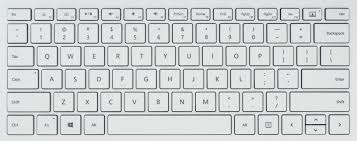keyboard: (2, 2, 357, 141)
